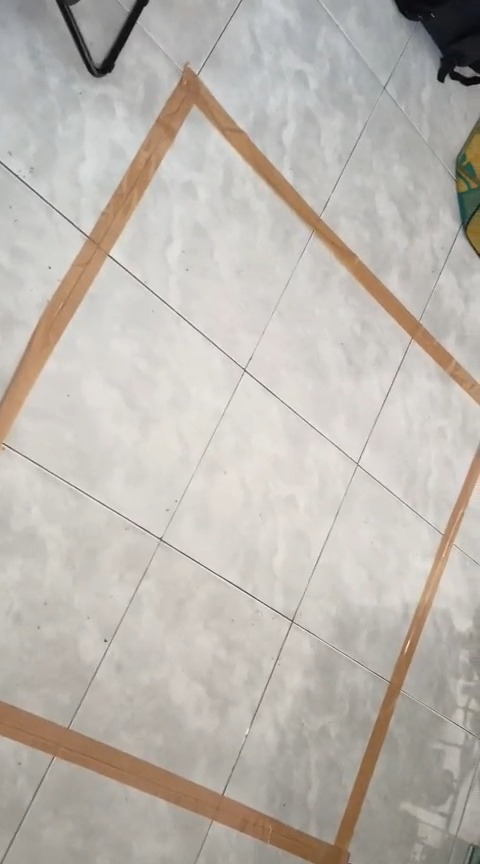floor marking: (2, 68, 479, 443), (0, 702, 348, 863), (337, 451, 479, 838)
